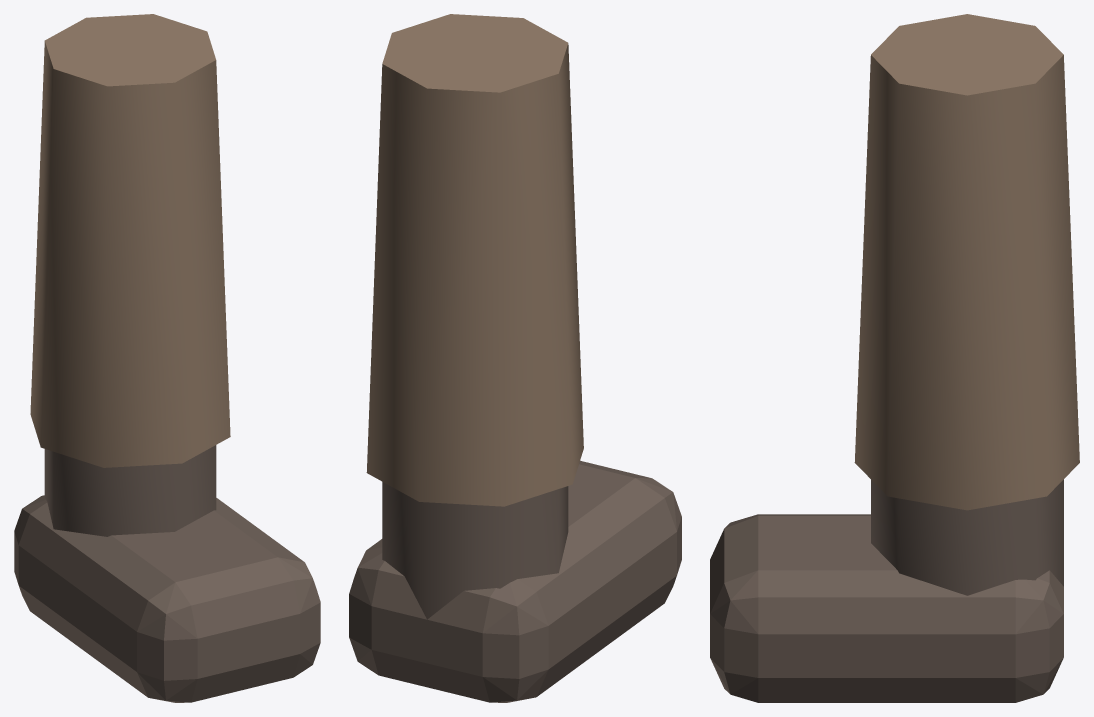
Rendered from courier_leg.glb.
3 renders of one model, left to right at view 1: azimuth 30°, elevation 25°; view 2: azimuth 150°, elevation 25°; view 3: azimuth 270°, elevation 25°, orthographic. The views are drawn at different scales.
Parts seen in each view (by area): view 1: courier_leg_Palette; view 2: courier_leg_Palette; view 3: courier_leg_Palette.
Boxes of the visible parts, x1=… form: courier_leg_Palette: x1=14, y1=14, x2=320, y2=702; courier_leg_Palette: x1=349, y1=14, x2=681, y2=702; courier_leg_Palette: x1=710, y1=14, x2=1079, y2=702.
Size of the model in its own units: 0.07 by 0.2125 by 0.115.
